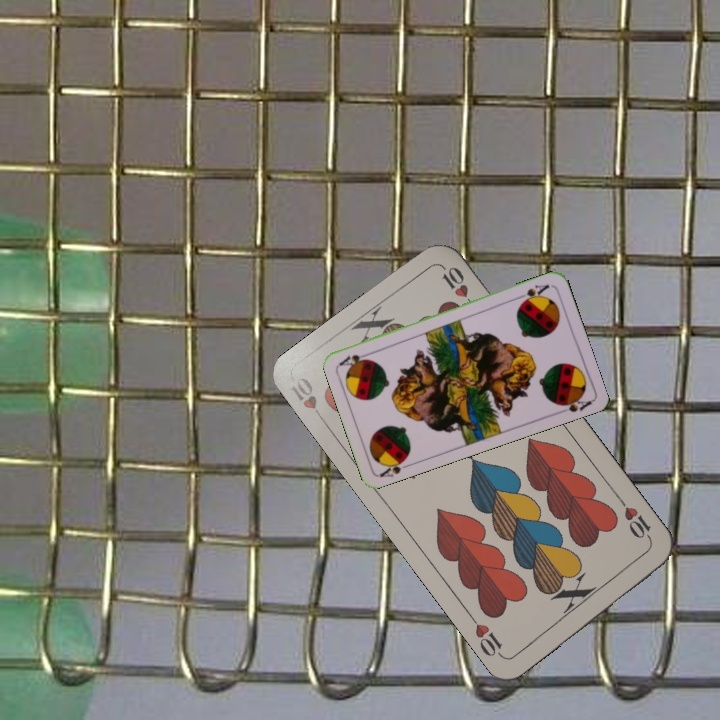H10: (286, 373, 329, 427), (615, 494, 655, 546)
SA: (376, 452, 415, 480), (514, 280, 552, 306)
